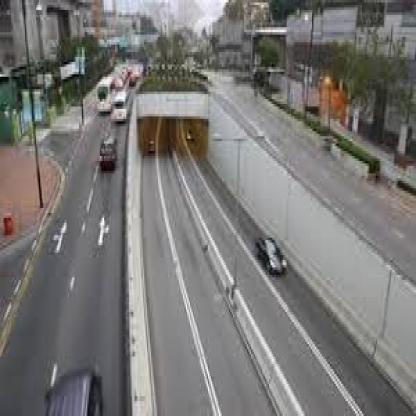car: (44, 353, 117, 416), (248, 221, 295, 282), (95, 133, 122, 170)
